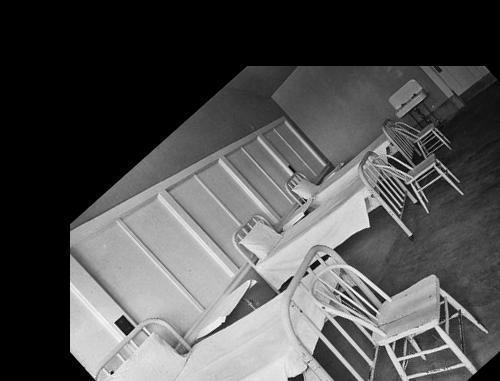Lavamanos: (380, 72, 431, 121)
